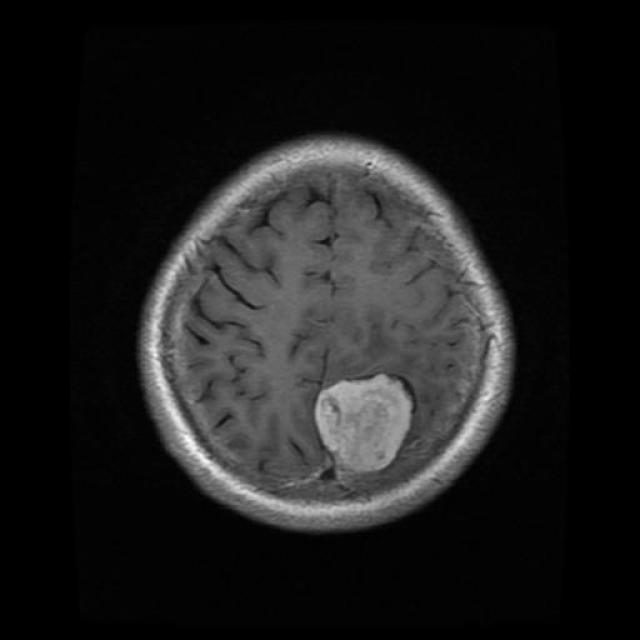meningioma: (314, 374, 414, 475)
